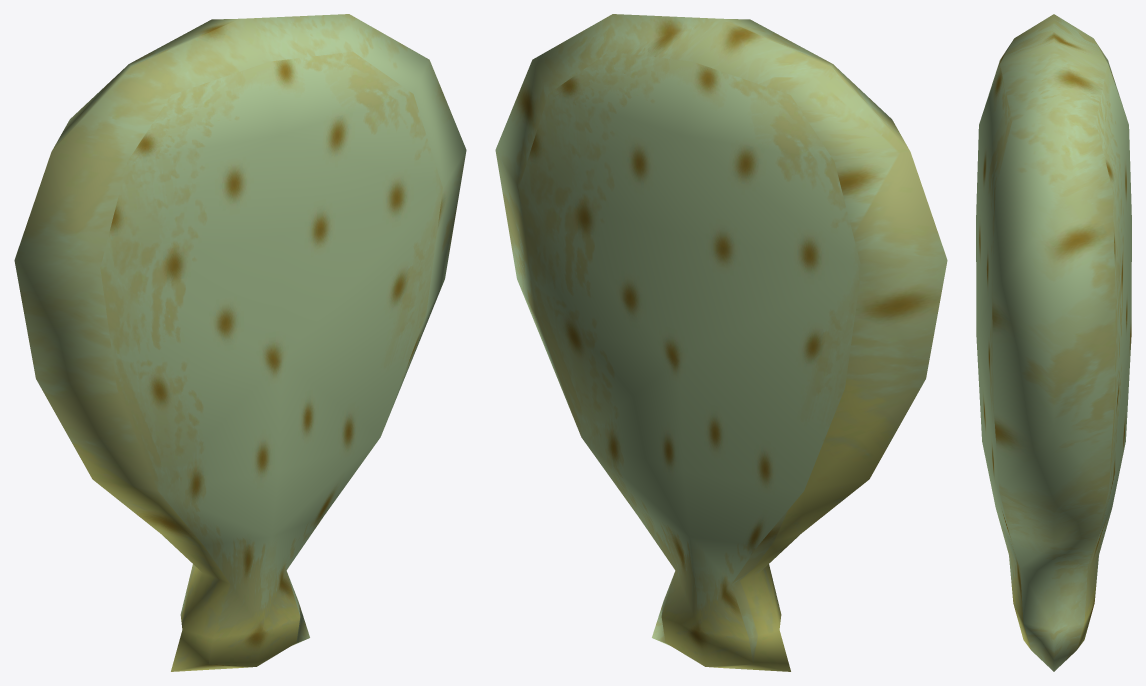
Rendered from PricklyPear.fbx.
3 renders of one model, left to right at view 1: azimuth 30°, elevation 25°; view 2: azimuth 150°, elevation 25°; view 3: azimuth 270°, elevation 25°, orthographic. The views are drawn at different scales.
Visible parts, largest first — view 1: PearCactus; view 2: PearCactus; view 3: PearCactus.
Boxes of the visible parts, x1,y1,x2,y2 form: PearCactus: [14, 14, 466, 671]; PearCactus: [495, 14, 947, 671]; PearCactus: [976, 14, 1131, 671].
Bounding box in the file's own units: 0.6296 × 0.864 × 0.2004.
